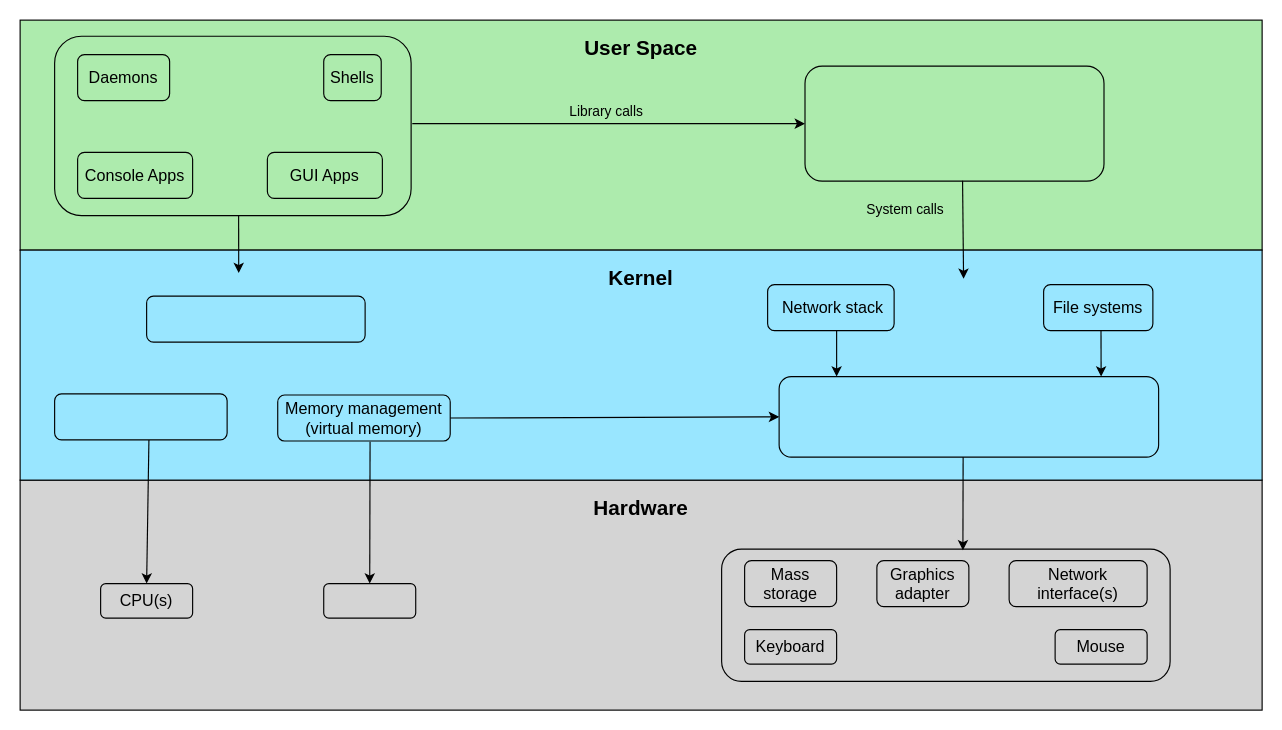
The diagram is 1282 pixels wide and 730 high, and some of its shapes have lost their labels. The shapes that lost their labels are listed below. From the top down, each one's box as (x1, y1, x2, y2) in pixels, then its label:
(53, 35, 411, 216): Applications
(804, 65, 1104, 181): Programm libraries (shared code)
(145, 295, 365, 342): Inter-process communication (e. g. pipes)
(53, 393, 227, 440): Process management (scheduler)
(778, 375, 1159, 457): Device drivers
(323, 582, 416, 618): RAM
